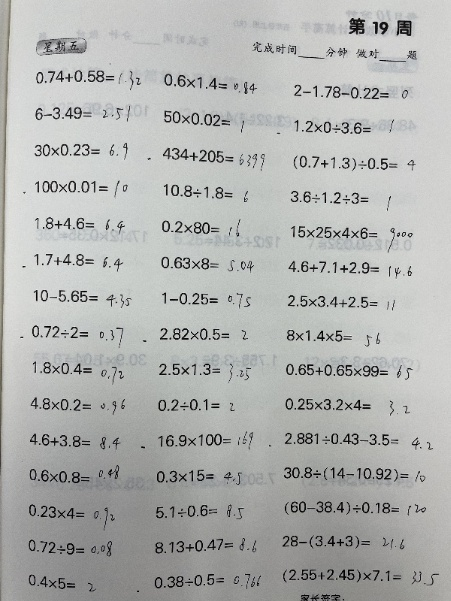equation: (281, 429, 436, 455), (287, 222, 416, 252), (280, 462, 428, 488), (280, 566, 440, 590), (282, 495, 429, 521), (32, 57, 144, 89), (281, 394, 412, 419), (278, 531, 408, 554), (282, 358, 414, 379), (29, 321, 126, 349), (290, 82, 409, 104), (25, 502, 117, 530), (289, 153, 417, 173), (160, 108, 248, 137), (156, 359, 253, 385), (159, 146, 267, 169), (285, 257, 414, 276), (287, 188, 393, 211), (155, 428, 256, 452), (151, 533, 259, 555), (31, 103, 134, 126), (151, 570, 263, 591), (290, 117, 399, 138), (283, 326, 381, 349), (33, 249, 126, 273), (29, 286, 132, 307), (32, 213, 126, 236), (32, 140, 130, 162), (284, 291, 397, 310), (29, 359, 126, 381), (26, 394, 127, 415), (160, 181, 252, 204), (26, 463, 121, 485), (32, 177, 130, 198), (24, 536, 114, 558), (152, 500, 246, 521), (159, 289, 253, 310), (159, 216, 243, 239), (153, 465, 244, 486), (157, 254, 256, 273), (157, 325, 248, 345), (160, 74, 259, 92), (26, 431, 123, 449), (154, 394, 237, 413), (26, 572, 94, 594)
